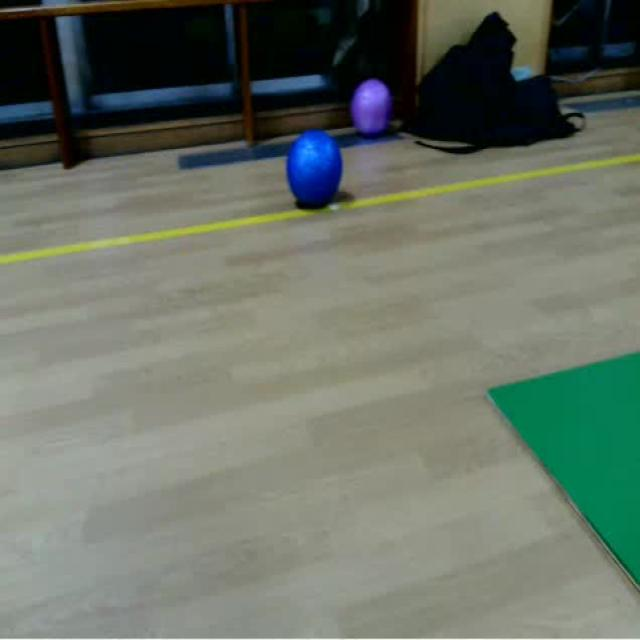blue_ball: (288, 132, 344, 206)
purple_ball: (353, 80, 390, 135)
